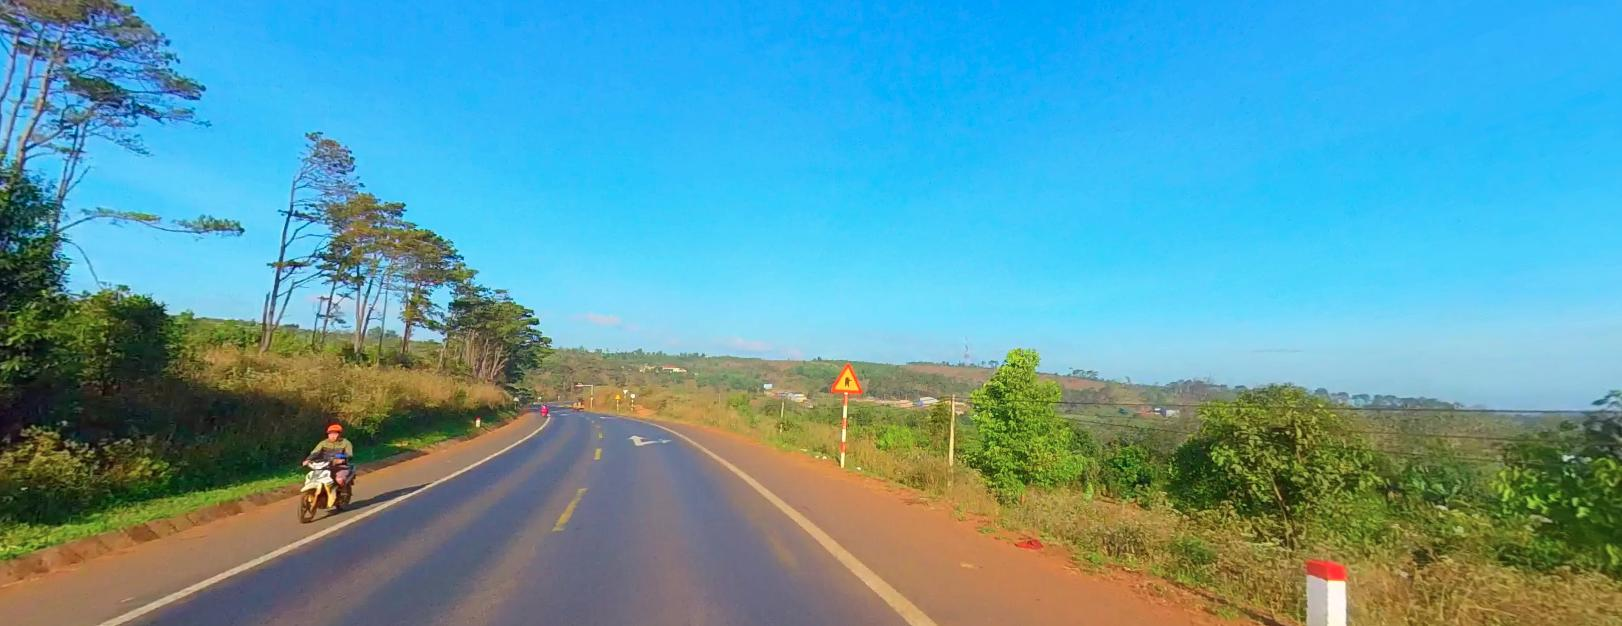Nguy hiem: (829, 360, 863, 392)
